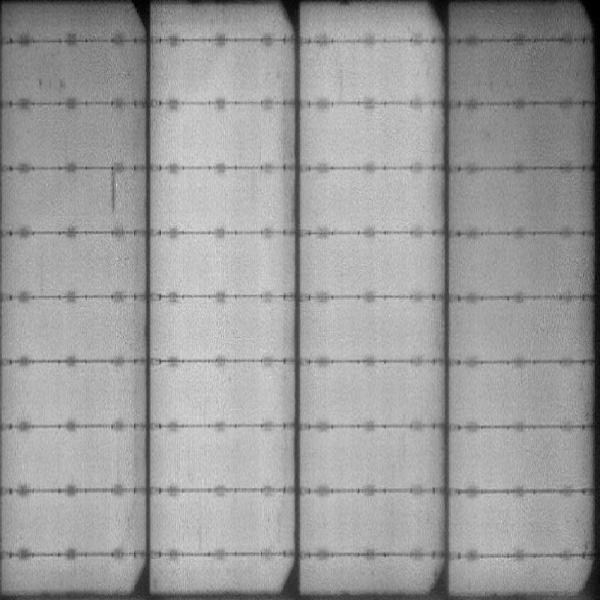scratch: (108, 166, 120, 216)
